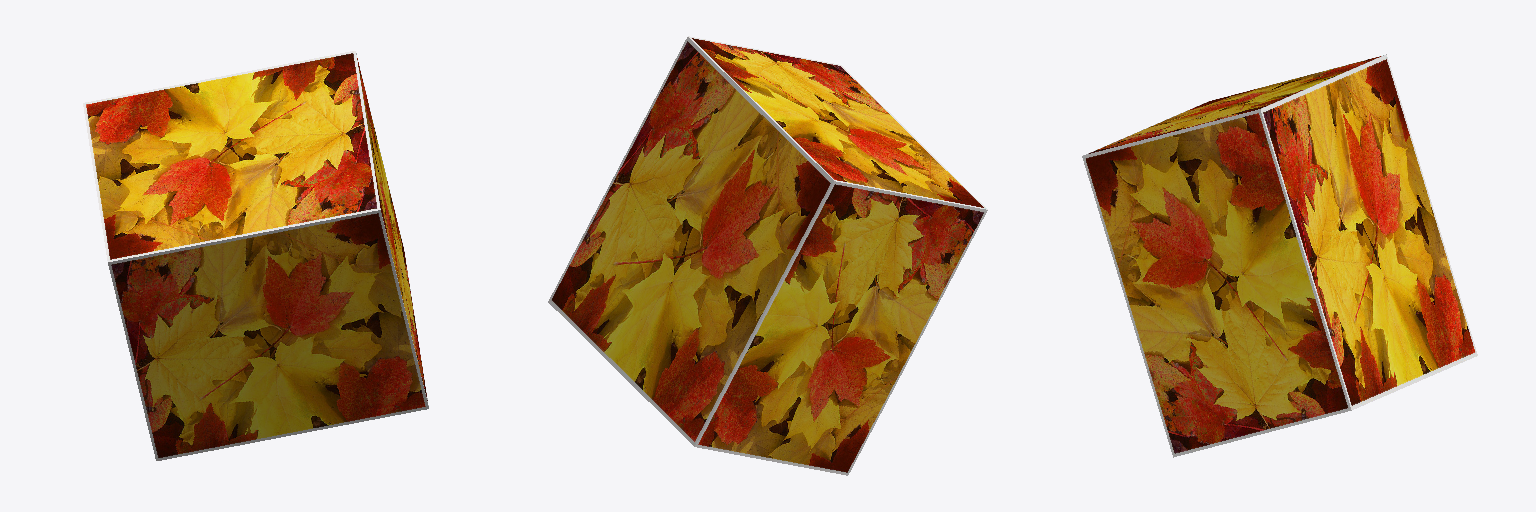
The picture shows the model from 3 angles: view 1: azimuth 30°, elevation 25°; view 2: azimuth 150°, elevation 25°; view 3: azimuth 270°, elevation 25°; orthographic projection.
Visible parts, largest first — view 1: Box01; view 2: Box01; view 3: Box01.
Boxes of the visible parts, x1,y1,x2,y2 form: Box01: [83, 51, 428, 460]; Box01: [548, 36, 987, 475]; Box01: [1082, 54, 1477, 457].
Size of the model in its own units: 62.44 by 61.79 by 58.16.
1 materials, 1 textured.